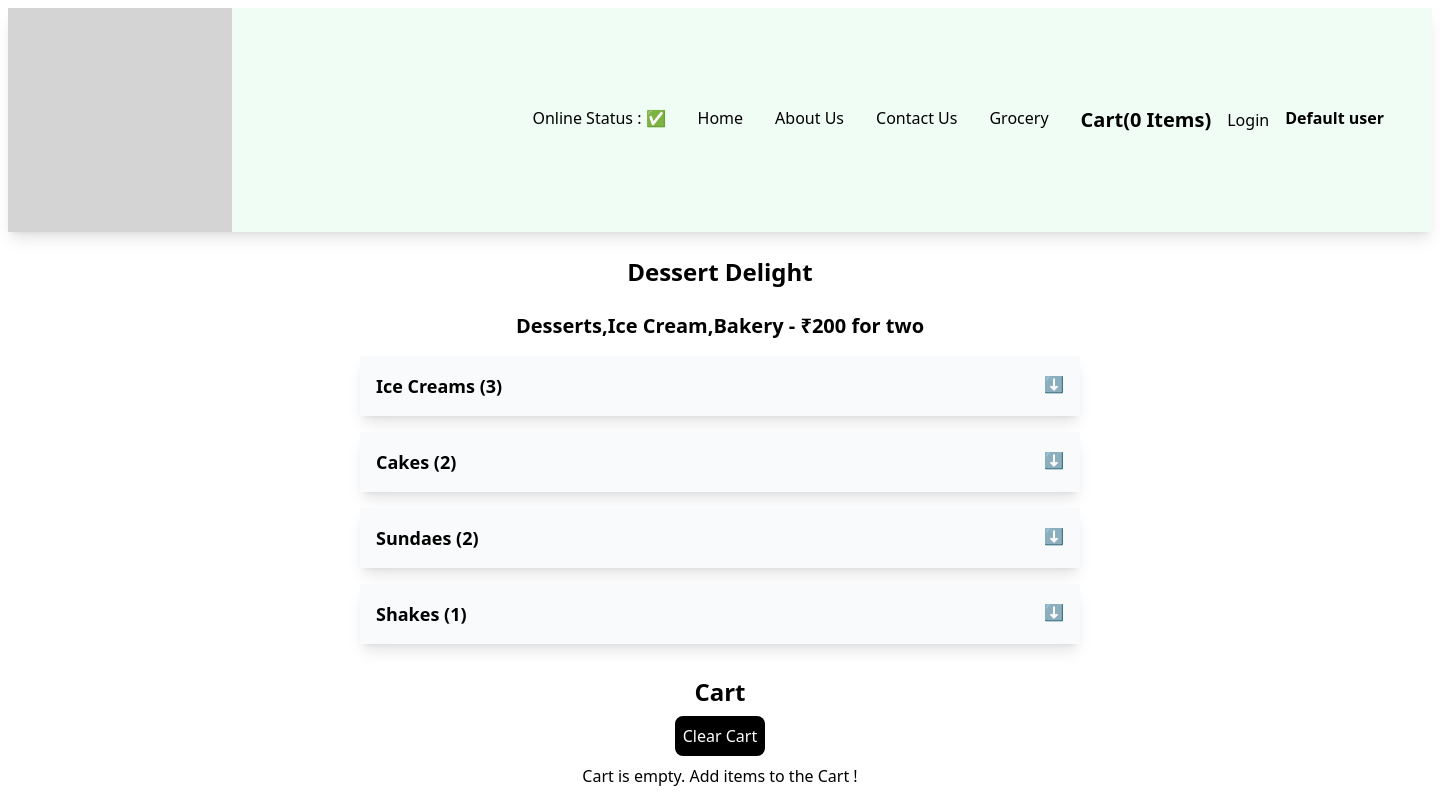
Should Load Restaurant Menu component
Click the text "Ice Creams (3)". click: [439, 386]
box: left=376, top=372, right=502, bottom=400
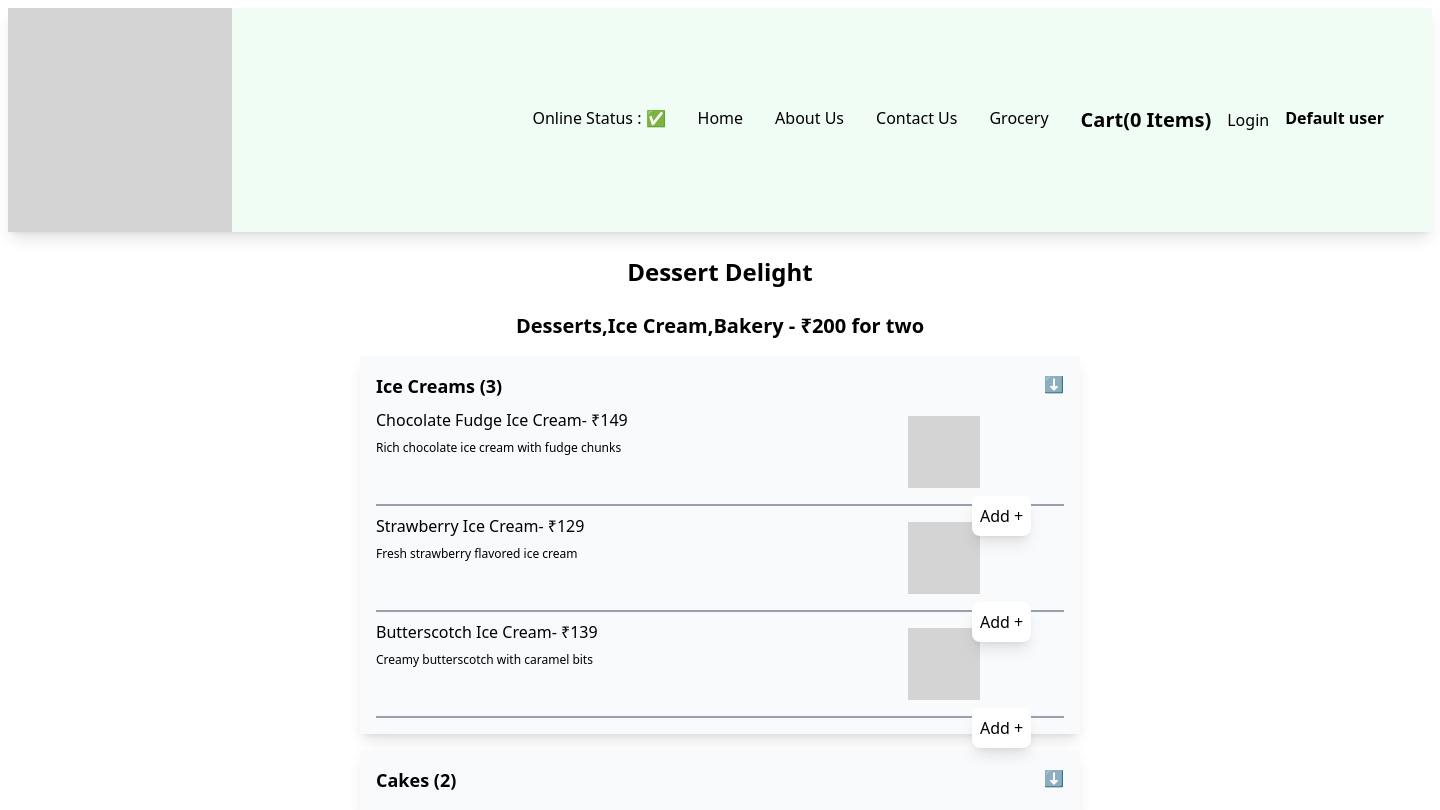
Check: the link "Cart(0 Items)" is shown, box left=1081, top=106, right=1211, bottom=133
Check: the number of elements with test id "foodItems" is 3, box left=376, top=400, right=1064, bottom=506; left=376, top=506, right=1064, bottom=612; left=376, top=612, right=1064, bottom=718
Click the 1st button "Add +". click: [1002, 516]
box: left=972, top=496, right=1031, bottom=536
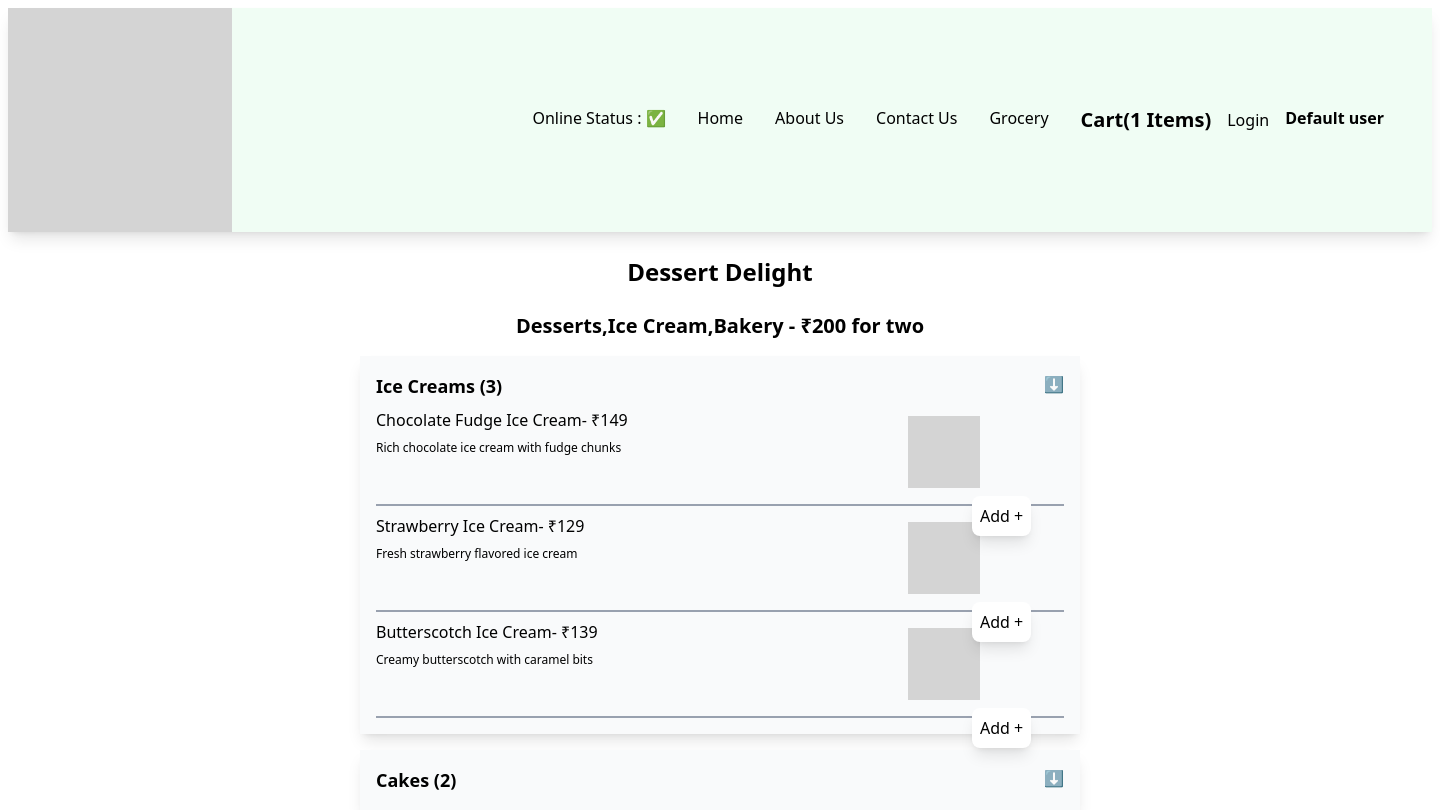
Check: the link "Cart(1 Items)" is shown, box left=1081, top=106, right=1211, bottom=133
Click the 2nd button "Add +". click: [1002, 622]
box: left=972, top=602, right=1031, bottom=642
(page scrolled)
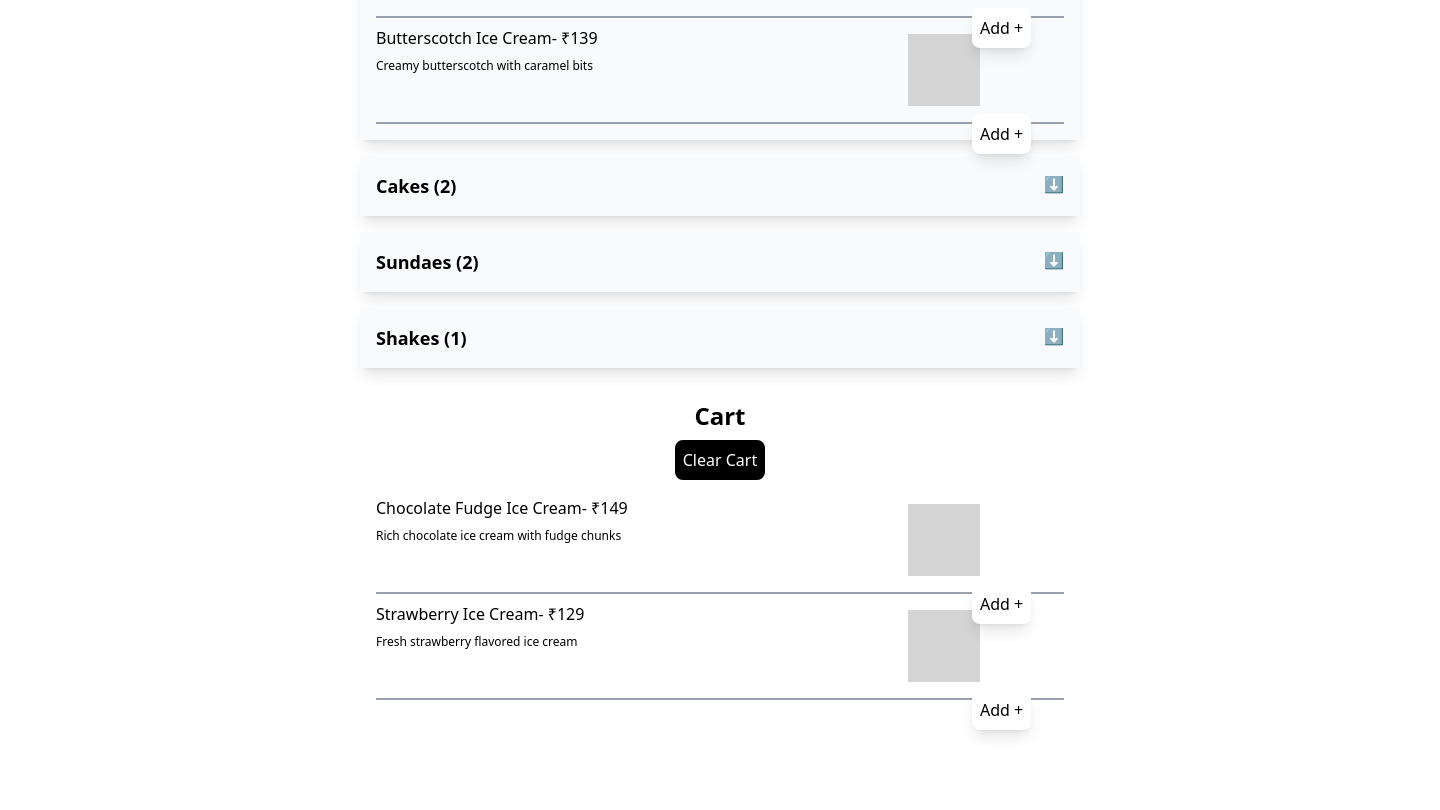
Check: the number of elements with test id "foodItems" is 5
Click the button "Clear Cart". click: [720, 460]
box: left=675, top=440, right=765, bottom=480
(page scrolled)
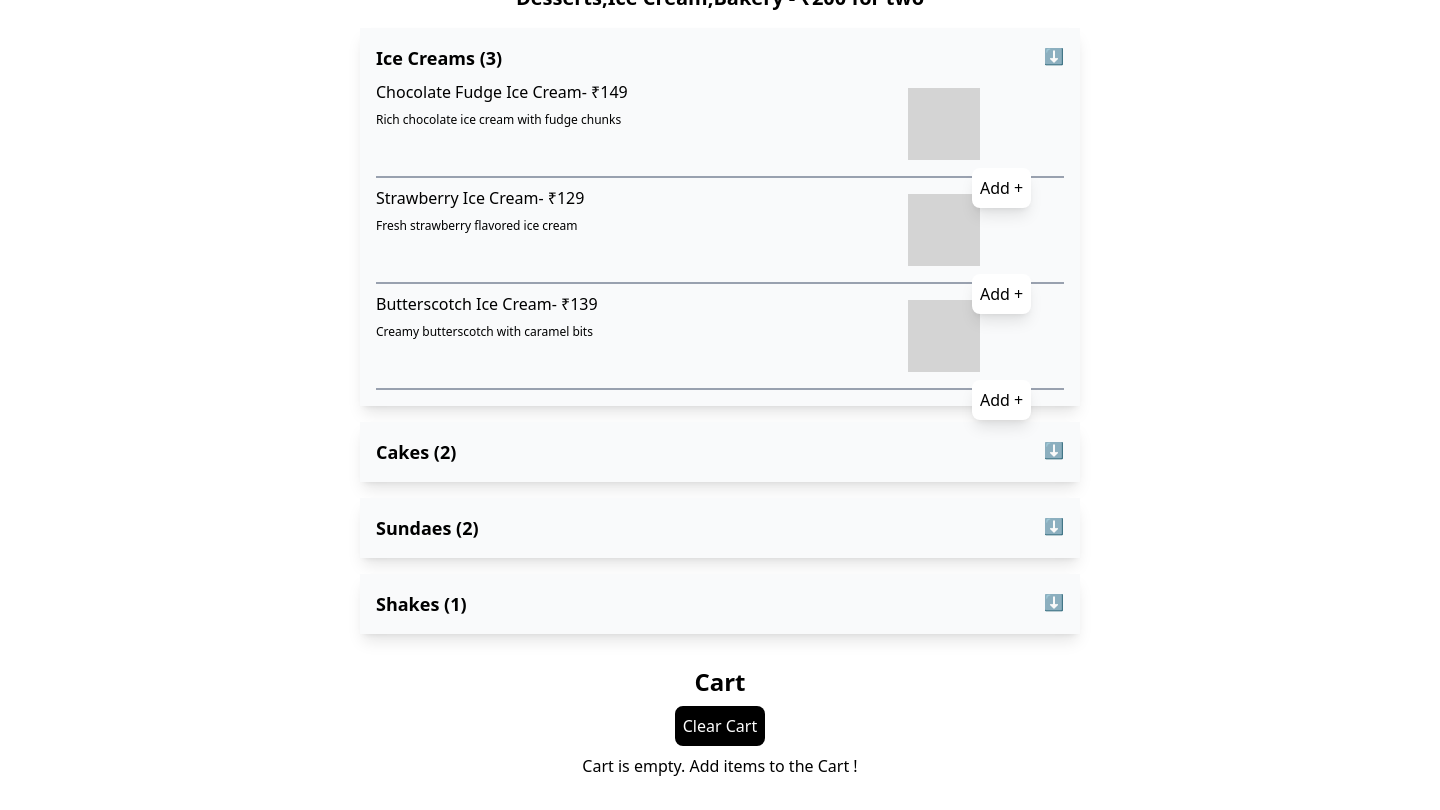
Check: the number of elements with test id "foodItems" is 3, box left=376, top=72, right=1064, bottom=178; left=376, top=178, right=1064, bottom=284; left=376, top=284, right=1064, bottom=390
Check: the heading "Cart is empty. Add items to the Cart !" is shown, box left=582, top=755, right=858, bottom=777
